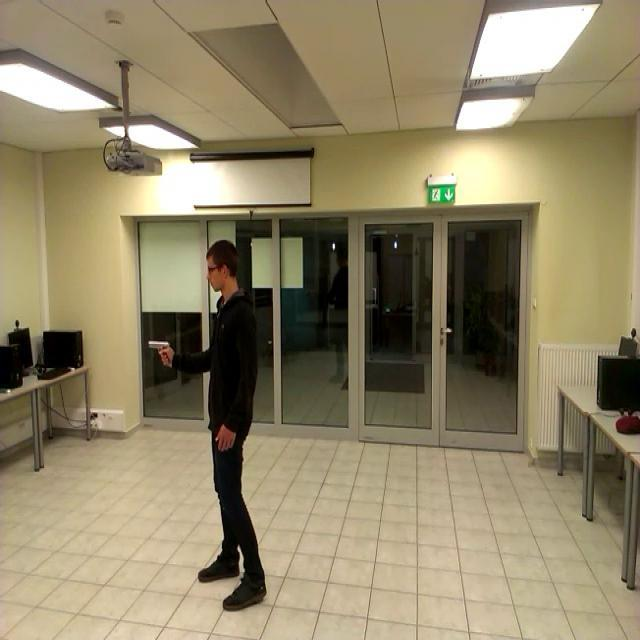gun-knife-thesis - v11 Yolov5 augmented: (140, 329, 171, 364)
